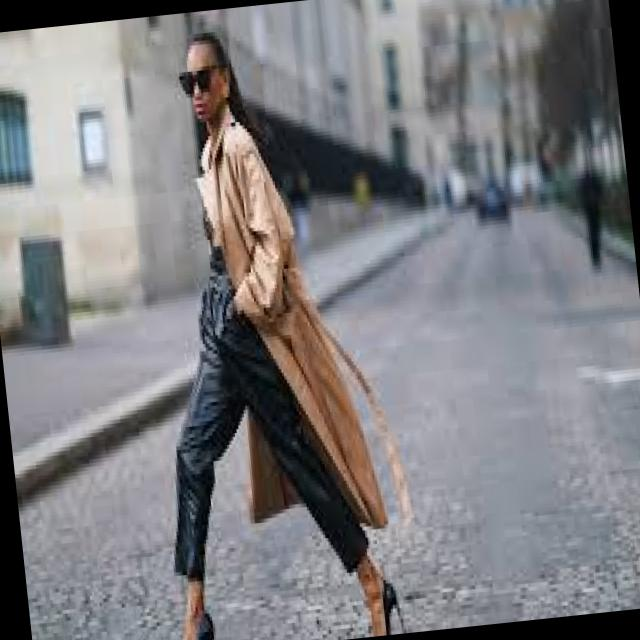Jacket: (148, 110, 378, 562)
